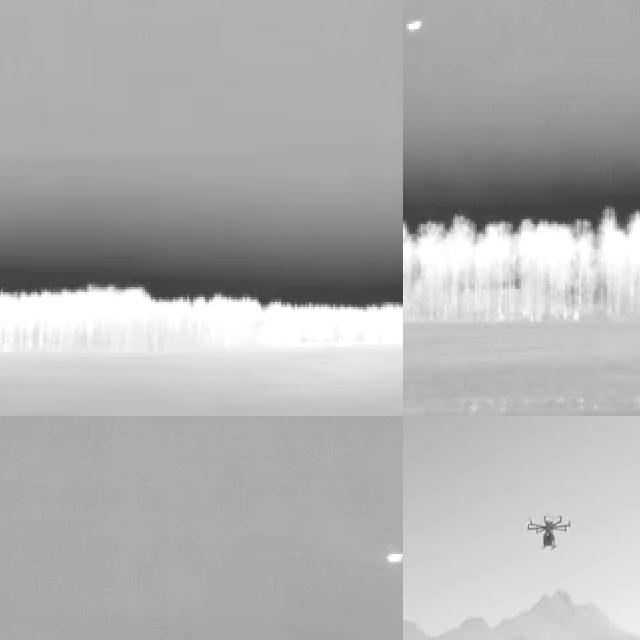1: (403, 14, 434, 44), (377, 546, 403, 576)
drone: (526, 510, 576, 554)
